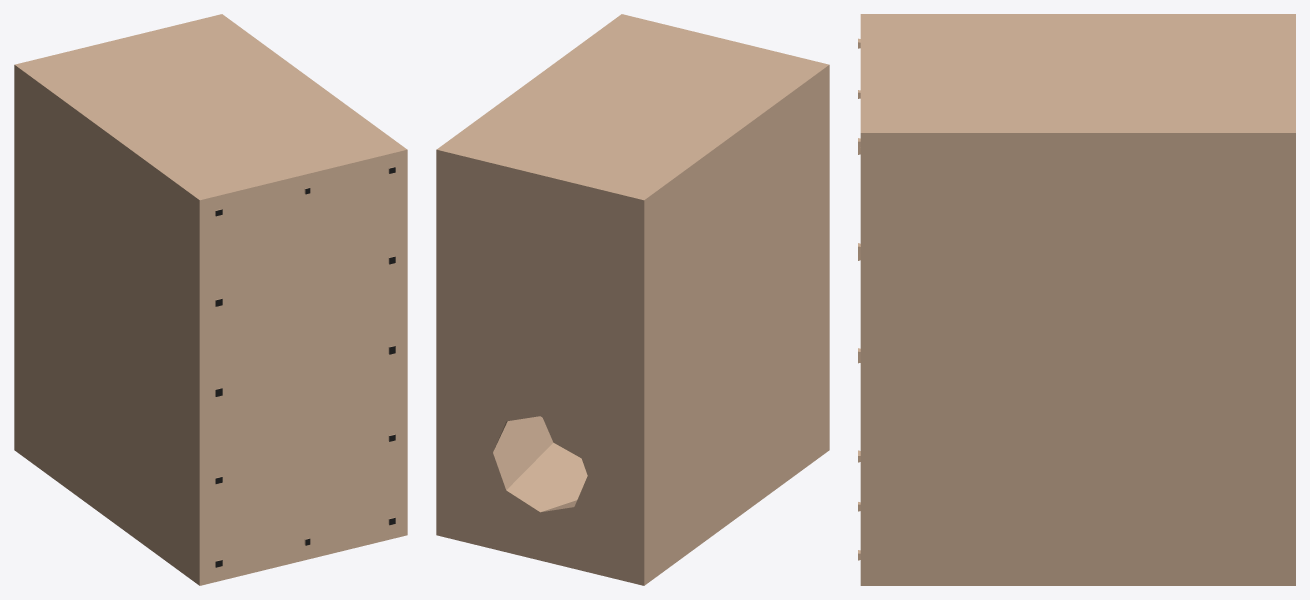
File: cajon.gltf
3 renders of one model, left to right at view 1: azimuth 30°, elevation 25°; view 2: azimuth 150°, elevation 25°; view 3: azimuth 270°, elevation 25°, orthographic. The views are drawn at different scales.
Parts seen in each view (by area): view 1: Cube; view 2: Cube; view 3: Cube.
Boxes of the visible parts, bbox=[...] form: Cube: bbox=[14, 14, 407, 585]; Cube: bbox=[436, 14, 829, 585]; Cube: bbox=[858, 14, 1295, 585].
Bounding box in the file's own units: 0.1802 × 0.3197 × 0.28.
1 material, 1 textured.
